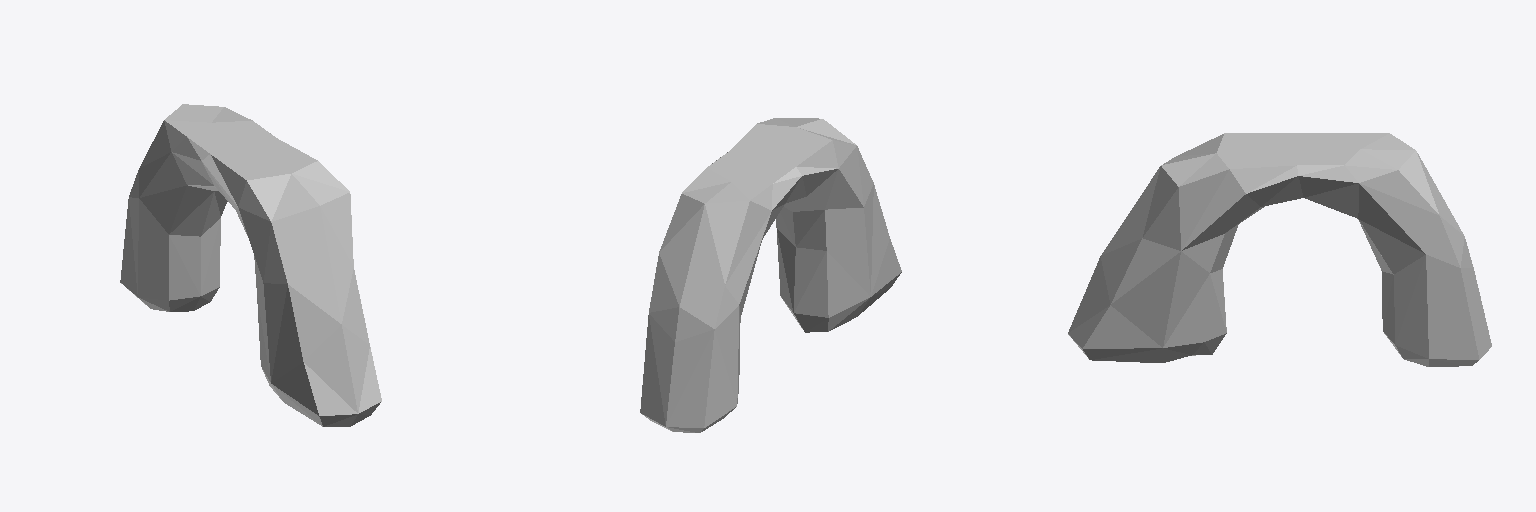
Rendered from Ground11.obj.
The picture shows the model from 3 angles: view 1: azimuth 30°, elevation 25°; view 2: azimuth 150°, elevation 25°; view 3: azimuth 270°, elevation 25°; orthographic projection.
Visible parts, largest first — view 1: Cube_Cube.001; view 2: Cube_Cube.001; view 3: Cube_Cube.001.
Boxes of the visible parts, x1,y1,x2,y2 form: Cube_Cube.001: [120, 104, 381, 426]; Cube_Cube.001: [640, 118, 901, 432]; Cube_Cube.001: [1068, 133, 1491, 366].
Size of the model in its own units: 4.95 by 11.18 by 20.55.